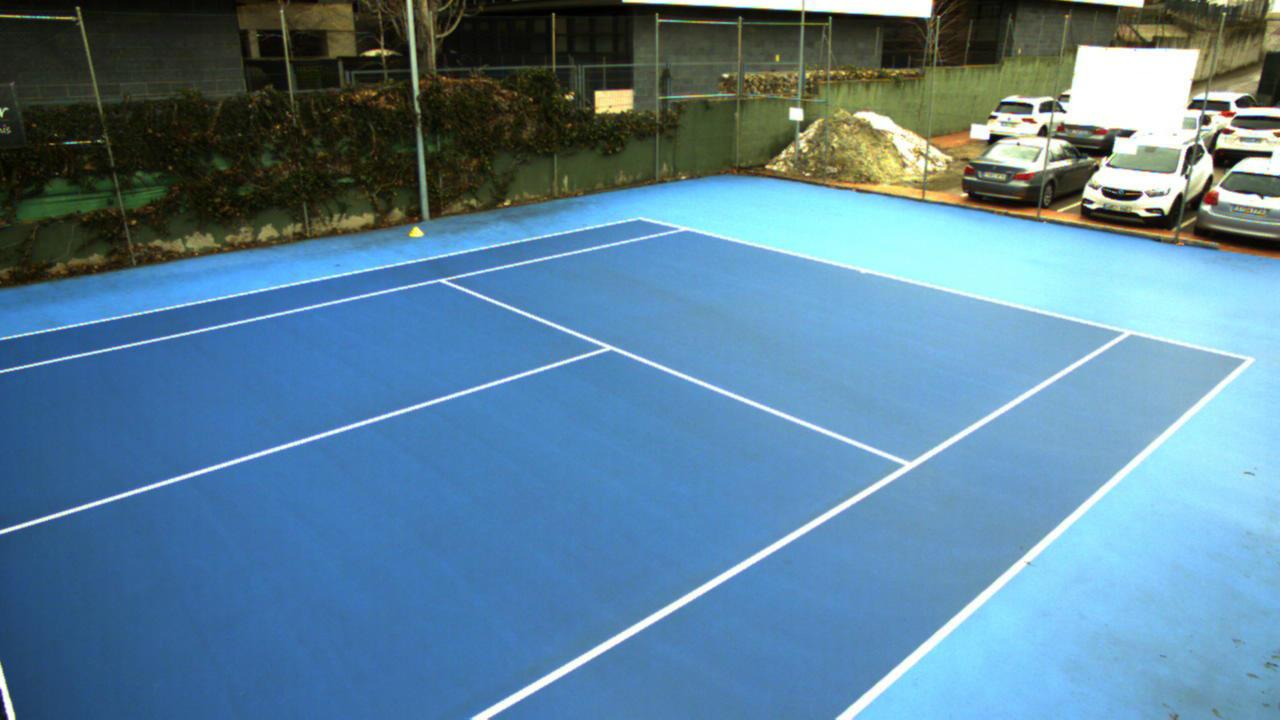cancha_tenis: (0, 227, 1133, 720)
point_f1: (673, 216, 693, 238)
point_f2: (1113, 318, 1141, 343)
point_fc1: (855, 261, 873, 281)
point_i1: (433, 268, 459, 291)
point_i2: (883, 447, 924, 488)
point_ic1: (588, 331, 624, 363)
